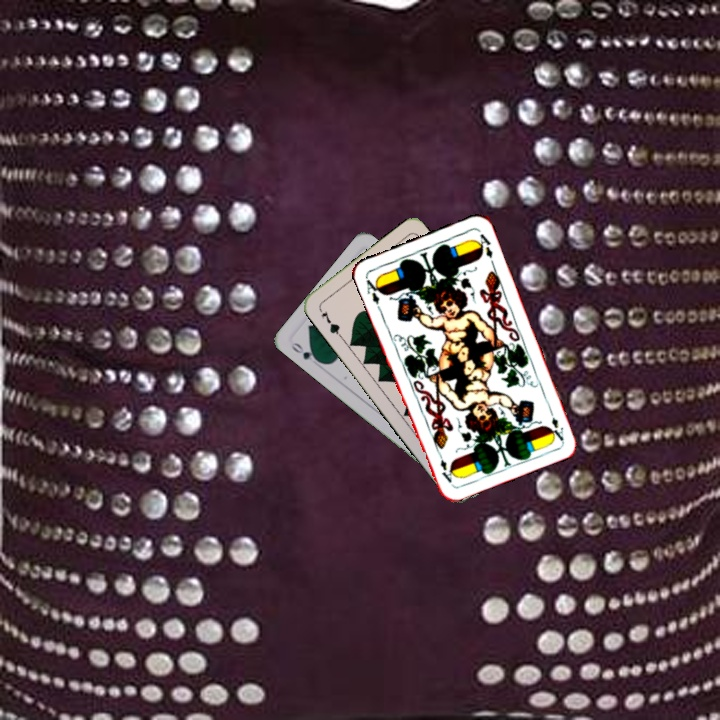EA: (545, 404, 566, 443), (362, 273, 384, 307)
G7: (315, 304, 344, 339)
GO: (287, 338, 323, 365)
